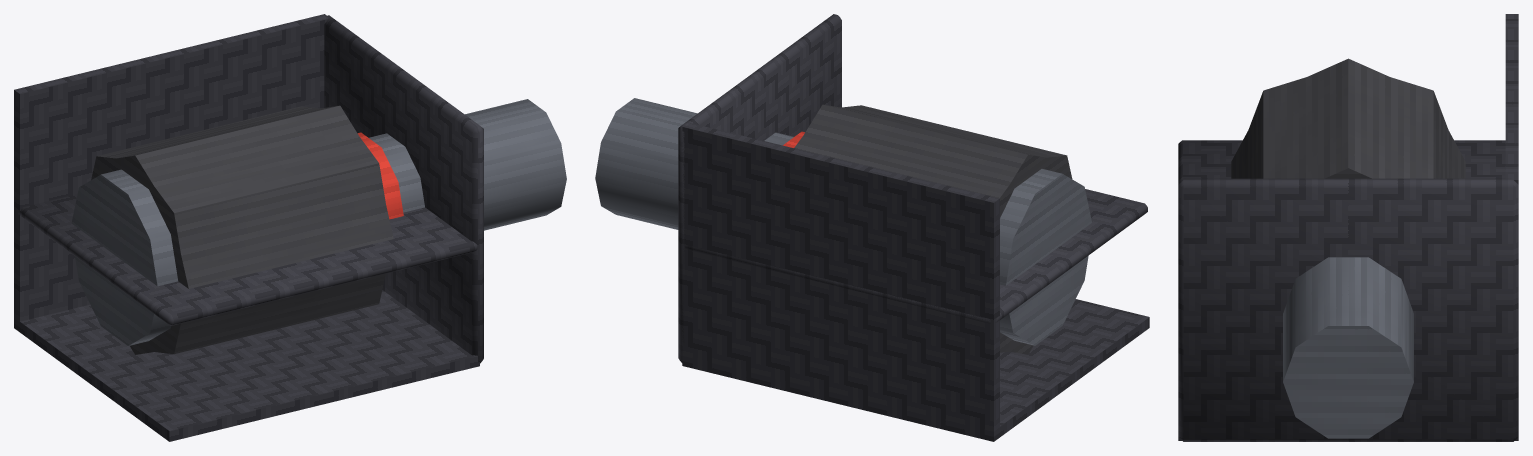
File: filtro_ar_n4.glb
3 views of the same model, side by side, from view 1: azimuth 30°, elevation 25°; view 2: azimuth 150°, elevation 25°; view 3: azimuth 270°, elevation 25° (orthographic). The views are drawn at different scales.
Parts seen in each view (by area): view 1: filtro_ar_n4; view 2: filtro_ar_n4; view 3: filtro_ar_n4.
Boxes of the visible parts, x1=… form: filtro_ar_n4: x1=14, y1=14, x2=566, y2=441; filtro_ar_n4: x1=595, y1=14, x2=1149, y2=441; filtro_ar_n4: x1=1178, y1=14, x2=1518, y2=441.
Bounding box in the file's own units: 0.43 × 0.22 × 0.26.
3 materials, 3 textured.
